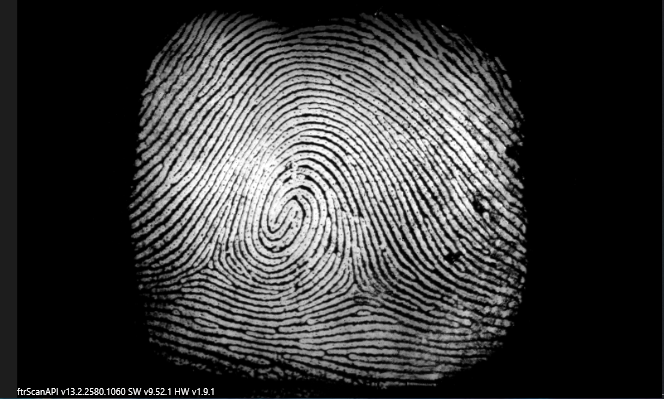deltas: (188, 238, 238, 290), (332, 255, 378, 305)
nucleo: (267, 183, 308, 236)
